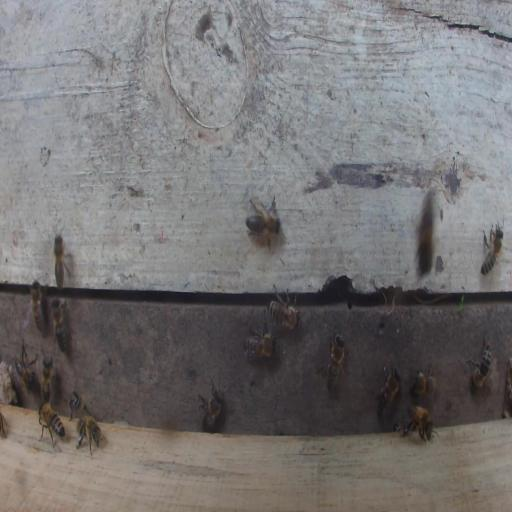nonpollenbee: (244, 196, 283, 251), (243, 306, 280, 363), (398, 402, 441, 447), (267, 278, 302, 333), (373, 363, 403, 426), (316, 332, 346, 393), (415, 193, 435, 279), (479, 213, 506, 276), (466, 330, 493, 392), (199, 375, 225, 435), (22, 280, 48, 335), (37, 402, 66, 450), (14, 337, 38, 395), (74, 413, 101, 459), (408, 359, 439, 399), (51, 233, 71, 293), (50, 293, 68, 355), (41, 351, 55, 406), (69, 388, 90, 423)
